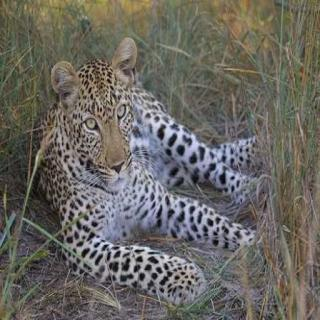Leopard: (54, 46, 235, 306)
